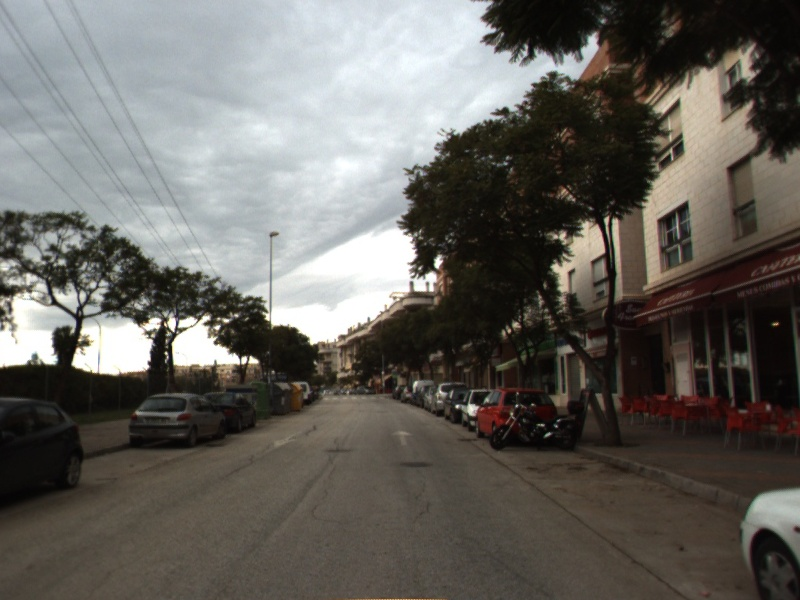STRAIGHT: (389, 428, 417, 448)
